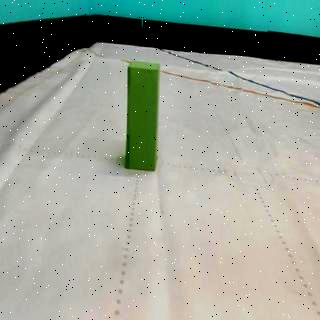greenbox: (125, 60, 162, 174)
